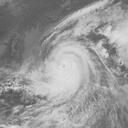cyclone: (44, 41, 89, 93)
